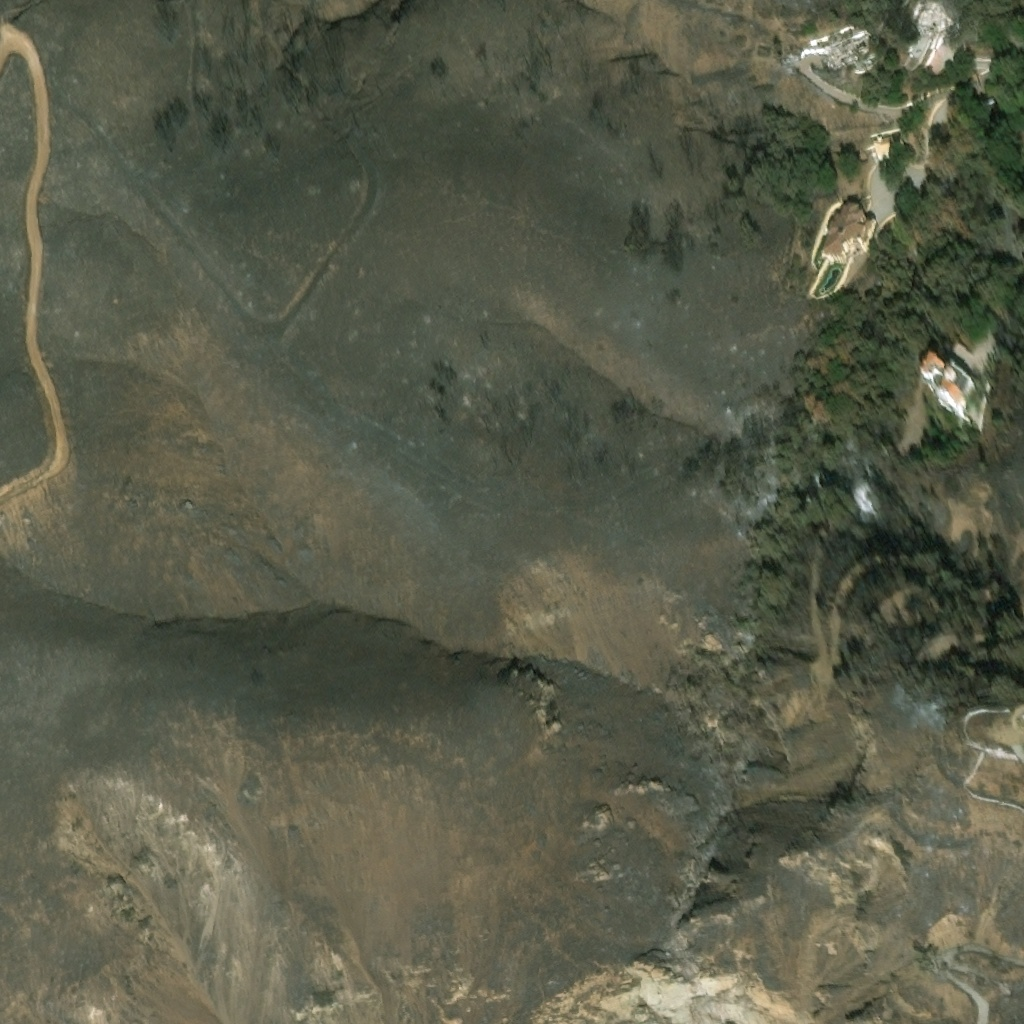0 no-damage: (818, 205, 874, 262), (922, 359, 973, 410), (873, 132, 909, 157)
3 destroyed: (818, 27, 870, 68), (911, 0, 963, 40)
